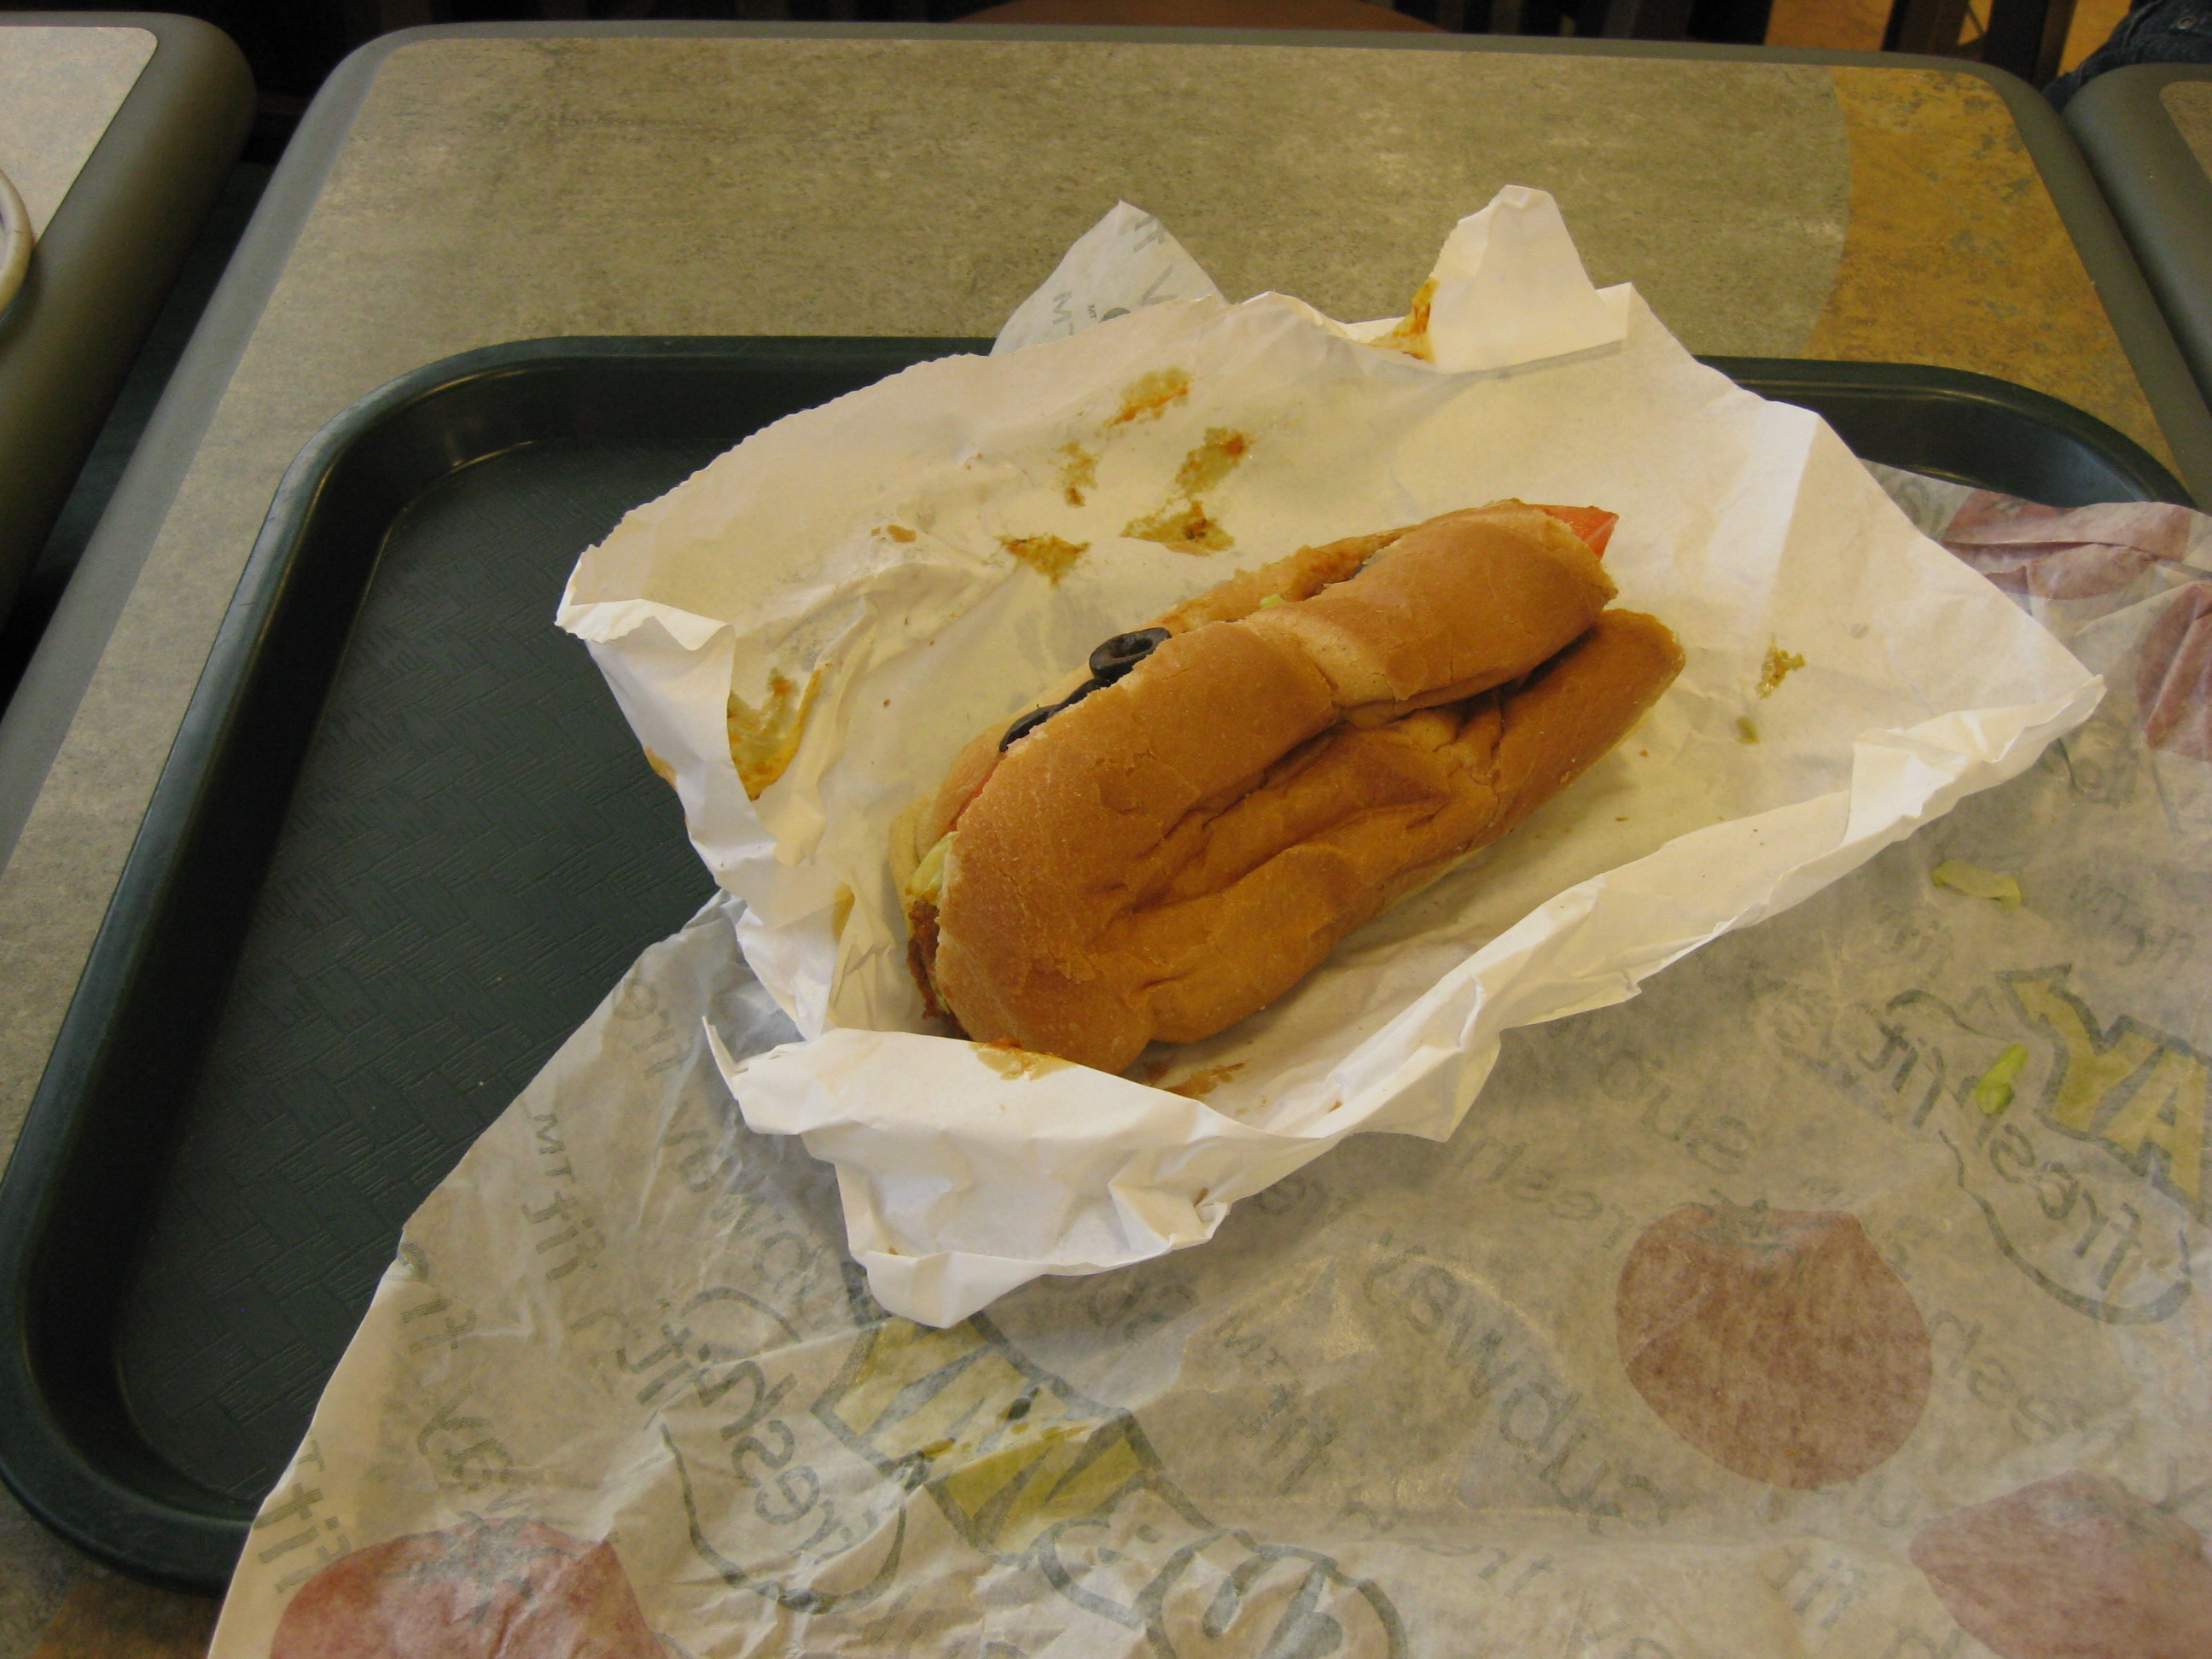sub: (806, 468, 1758, 1097)
